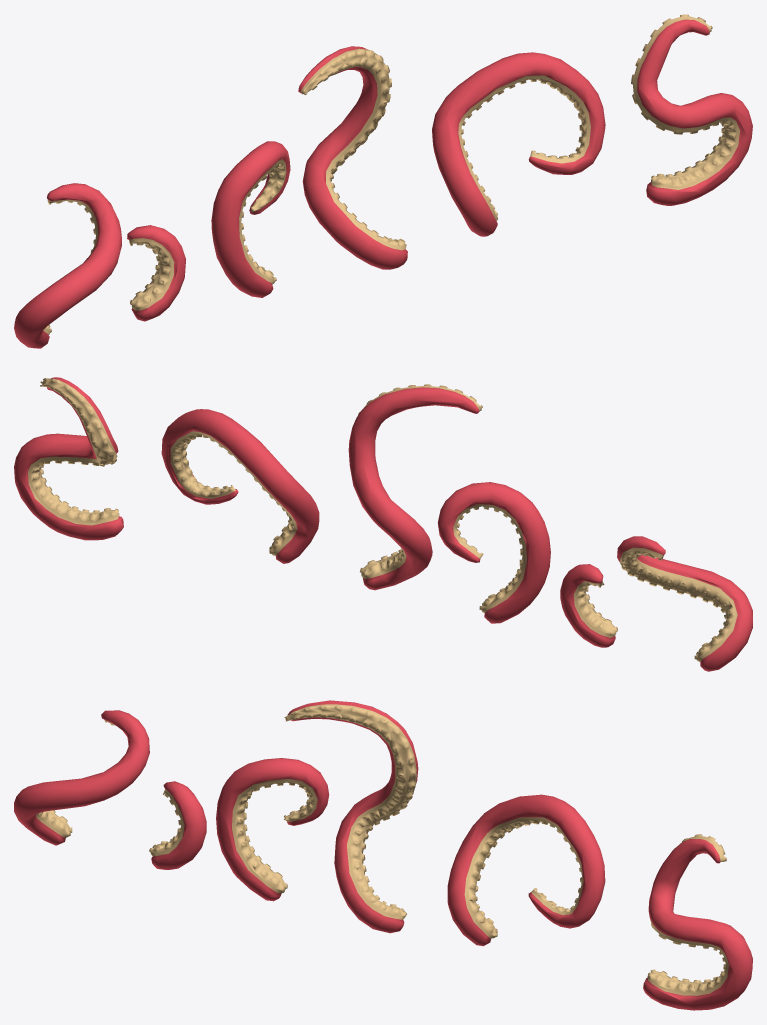
The model's file is Tentacule.fbx.
3 views of the same model, one above another, from view 1: azimuth 30°, elevation 25°; view 2: azimuth 150°, elevation 25°; view 3: azimuth 330°, elevation 25° (orthographic). The views are drawn at different scales.
Parts seen in each view (by area): view 1: BézierCurve.005, BézierCurve.004, BézierCurve.006, BézierCurve.003, BézierCurve.001, BézierCurve.002; view 2: BézierCurve.005, BézierCurve.004, BézierCurve.006, BézierCurve.003, BézierCurve.001, BézierCurve.002; view 3: BézierCurve.005, BézierCurve.004, BézierCurve.006, BézierCurve.003, BézierCurve.001, BézierCurve.002.
Boxes of the visible parts, x1,y1,x2,y2 form: BézierCurve.005: (432,52,605,236); BézierCurve.004: (298,46,407,269); BézierCurve.006: (631,14,752,205); BézierCurve.003: (211,141,290,297); BézierCurve.001: (14,183,121,348); BézierCurve.002: (127,225,185,321); BézierCurve.005: (161,409,319,563); BézierCurve.004: (348,384,482,590); BézierCurve.006: (14,377,123,540); BézierCurve.003: (437,482,550,623); BézierCurve.001: (617,536,752,671); BézierCurve.002: (560,564,617,647); BézierCurve.005: (447,794,605,946); BézierCurve.004: (284,700,418,933); BézierCurve.006: (643,834,752,1010); BézierCurve.003: (216,758,329,901); BézierCurve.001: (14,710,149,845); BézierCurve.002: (149,781,206,869).
Bounding box in the file's own units: 3518 × 1073 × 460.
